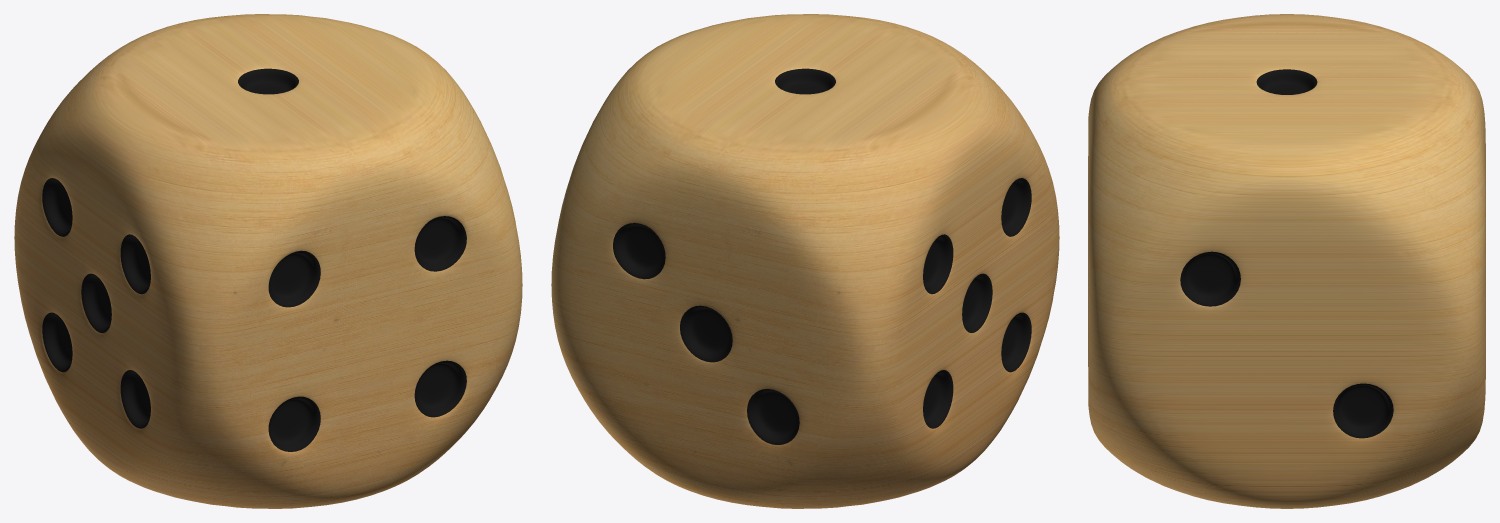
Rendered from gal-b-die-4221.glb.
3 views of the same model, side by side, from view 1: azimuth 30°, elevation 25°; view 2: azimuth 150°, elevation 25°; view 3: azimuth 270°, elevation 25° (orthographic).
Parts seen in each view (by area): view 1: Dice; view 2: Dice; view 3: Dice.
Part boxes in pixels (left/top/right/bottom): Dice: left=14, top=14, right=522, bottom=508; Dice: left=551, top=14, right=1059, bottom=508; Dice: left=1088, top=14, right=1485, bottom=508.
Bounding box in the file's own units: 0.02 × 0.02 × 0.02.
Materials: 2 (1 with a texture image).
